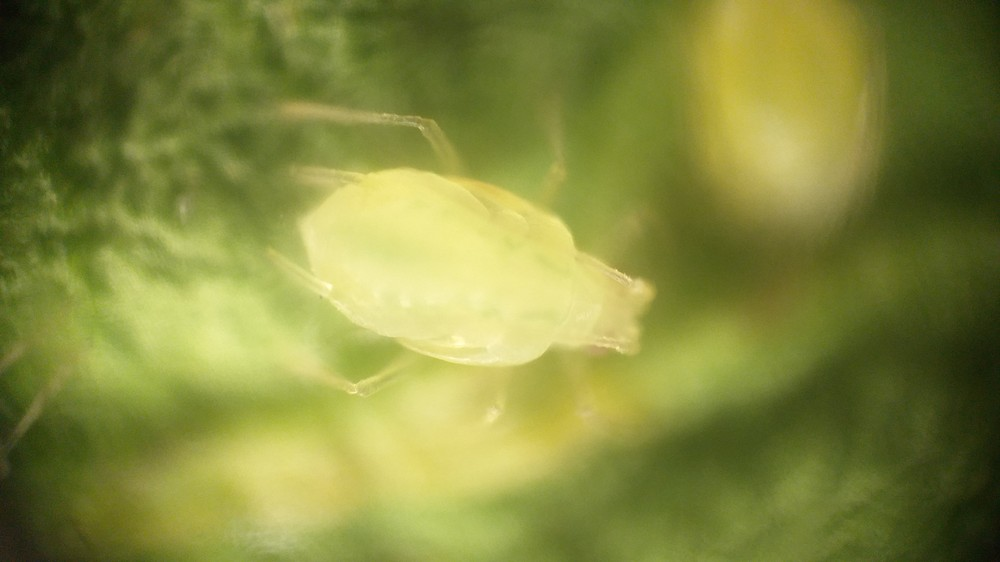Pulgon: (223, 74, 709, 471)
